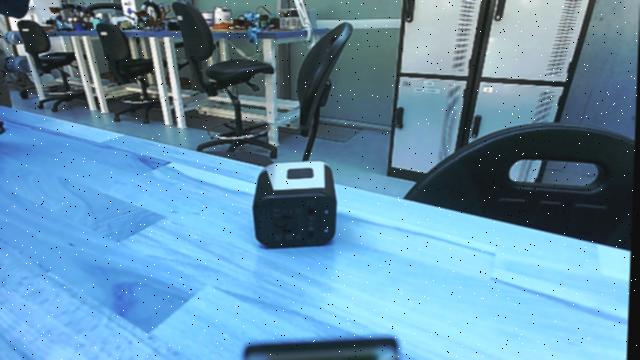adapter: (249, 158, 349, 255)
